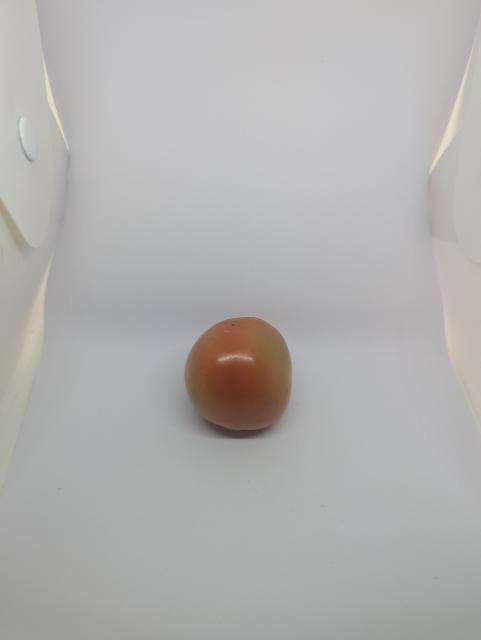turning: (182, 303, 296, 442)
